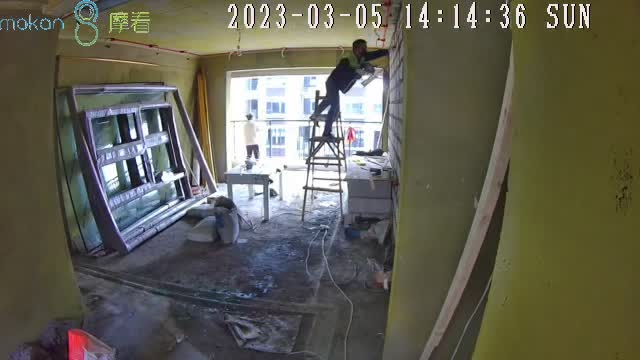people: (309, 36, 390, 136), (244, 113, 260, 160)
window: (231, 75, 382, 162)
